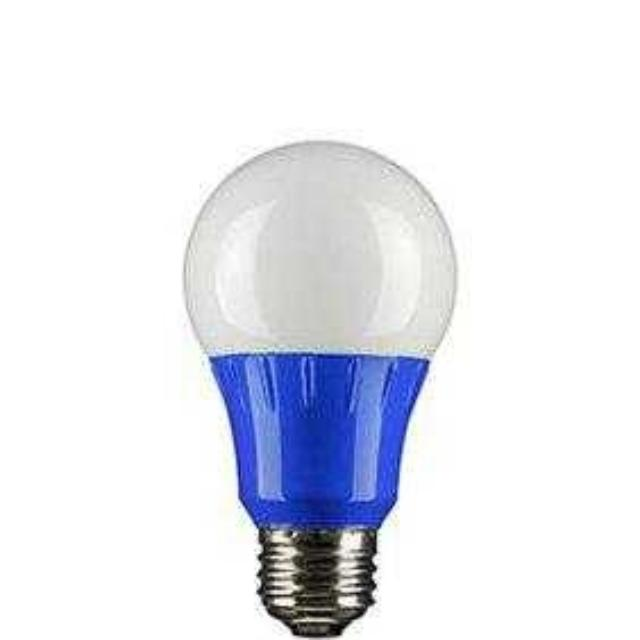light_bulb: (177, 138, 465, 630)
